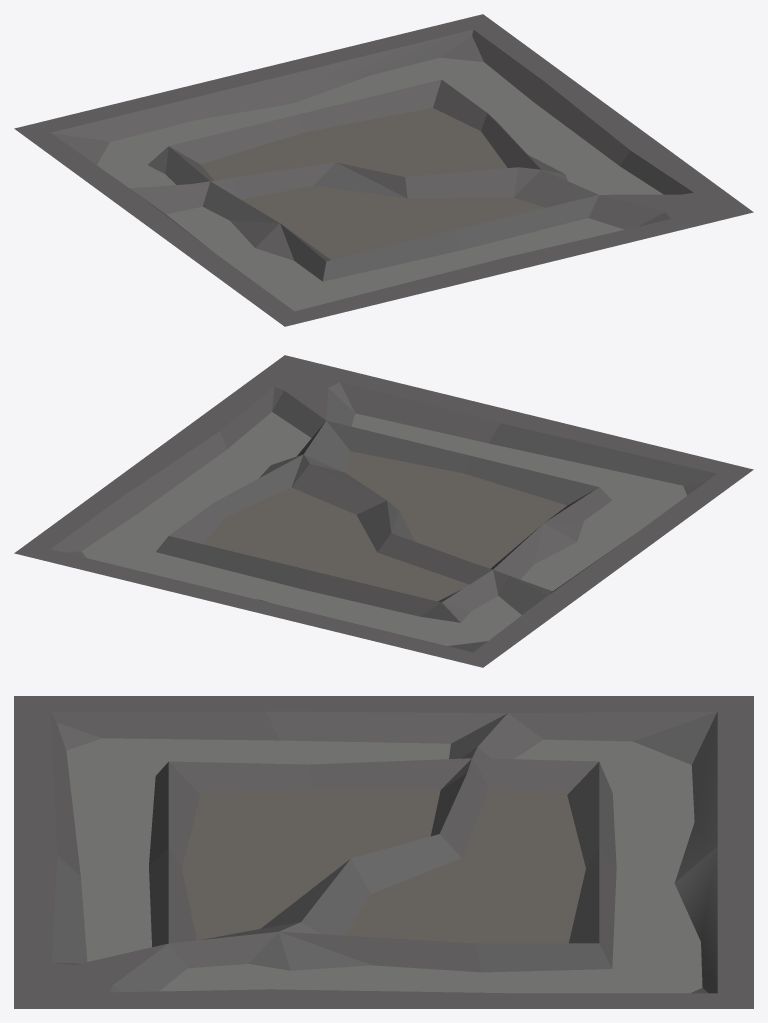
Rendered from SM_Env_Ceiling_Stone_Flat_03.FBX.
The picture shows the model from 3 angles, top to bottom: view 1: azimuth 30°, elevation 25°; view 2: azimuth 150°, elevation 25°; view 3: azimuth 270°, elevation 25°; orthographic projection. The views are drawn at different scales.
Visible parts, largest first — view 1: SM_Env_Ceiling_Stone_Flat_03; view 2: SM_Env_Ceiling_Stone_Flat_03; view 3: SM_Env_Ceiling_Stone_Flat_03.
Boxes of the visible parts, box(x1,y1,x2,y2) form: SM_Env_Ceiling_Stone_Flat_03: box(14, 14, 753, 326); SM_Env_Ceiling_Stone_Flat_03: box(14, 355, 753, 667); SM_Env_Ceiling_Stone_Flat_03: box(14, 696, 753, 1008).
Size of what is drawn, in the model's own units: 500 by 500 by 14.98.
